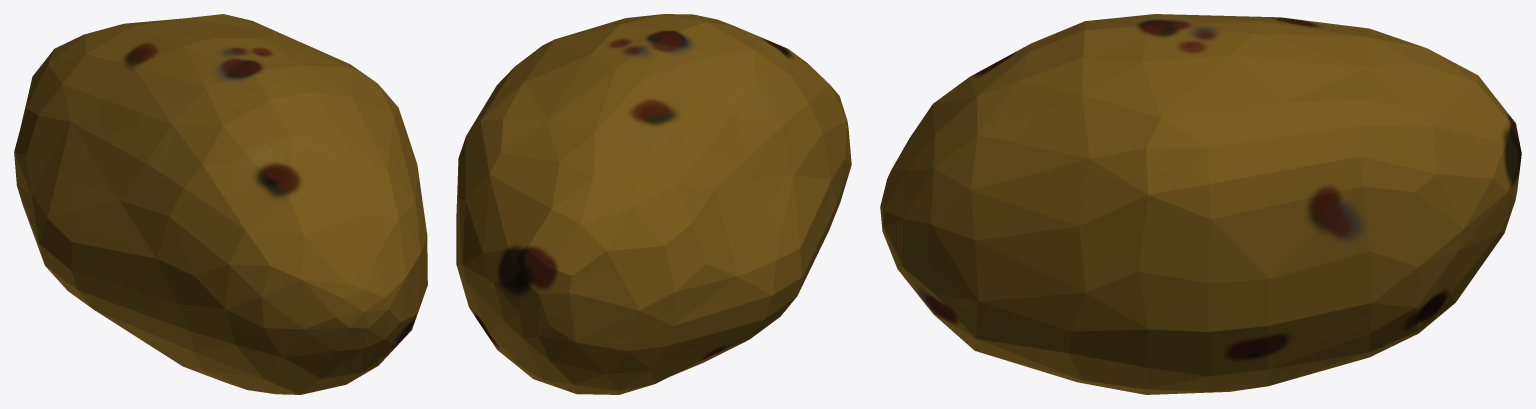
Rendered from Potato.fbx.
The picture shows the model from 3 angles, left to right: view 1: azimuth 30°, elevation 25°; view 2: azimuth 150°, elevation 25°; view 3: azimuth 270°, elevation 25°; orthographic projection. The views are drawn at different scales.
Visible parts, largest first — view 1: Potato; view 2: Potato; view 3: Potato.
Part boxes in pixels (x1=…): Potato: x1=14, y1=14, x2=427, y2=394; Potato: x1=456, y1=14, x2=851, y2=394; Potato: x1=880, y1=14, x2=1521, y2=394.
Bounding box in the file's own units: 213 × 202 × 331.
